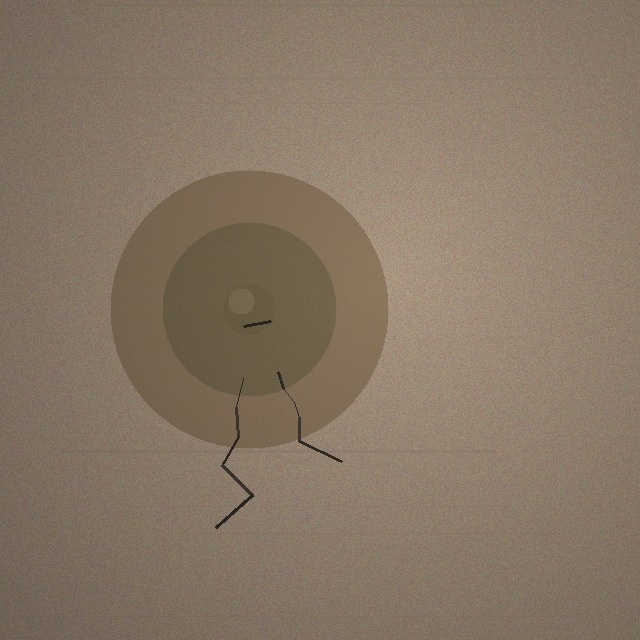crack: (110, 170, 388, 448)
